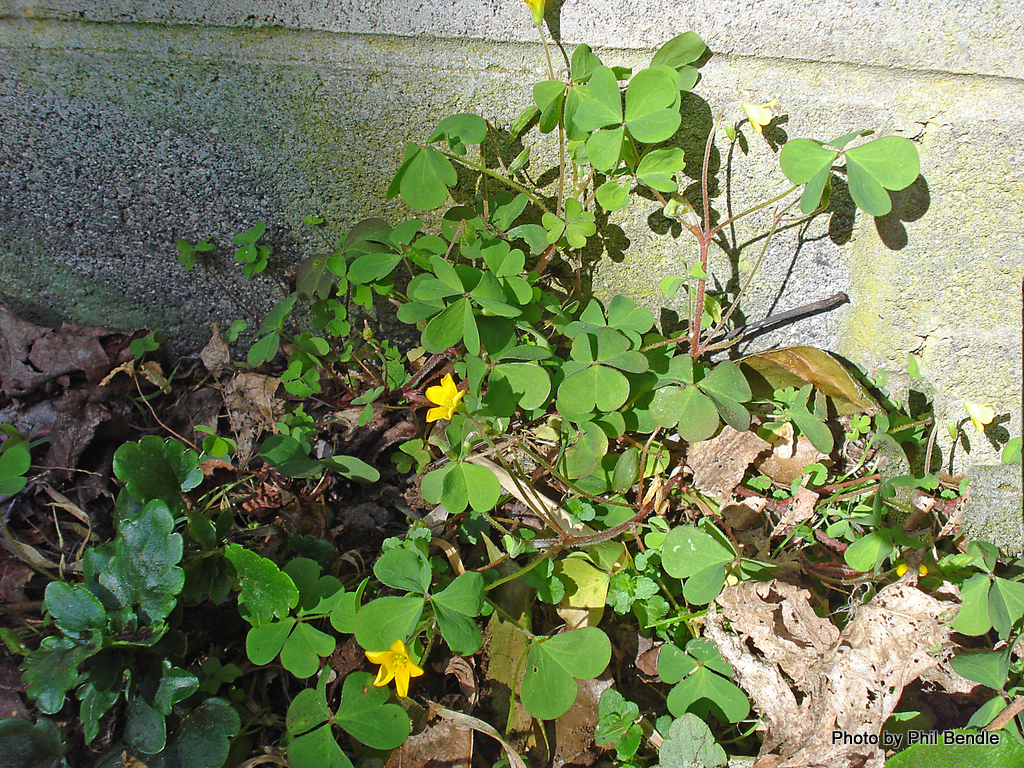oxalis: (292, 100, 968, 507), (247, 544, 623, 729), (669, 510, 781, 627)
